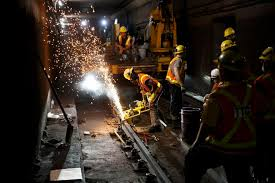hard hat: (223, 25, 238, 38), (221, 40, 238, 50)
safe person: (208, 52, 260, 183), (122, 69, 163, 127), (169, 43, 188, 123), (115, 26, 133, 53)
